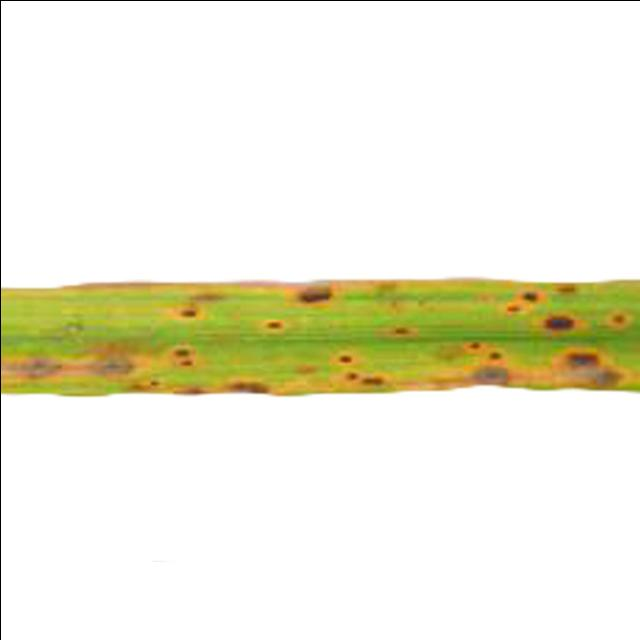Brown spot: (0, 210, 640, 435)
